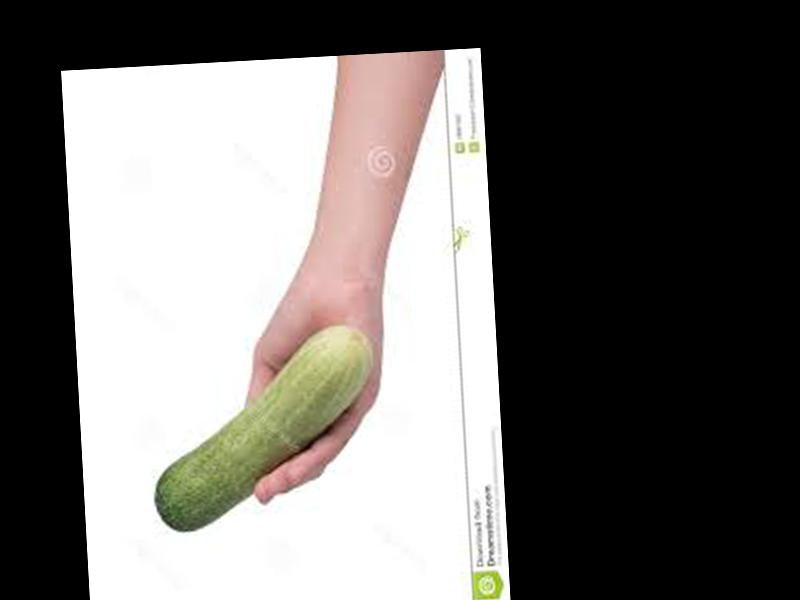Cucumber: (147, 324, 379, 530)
